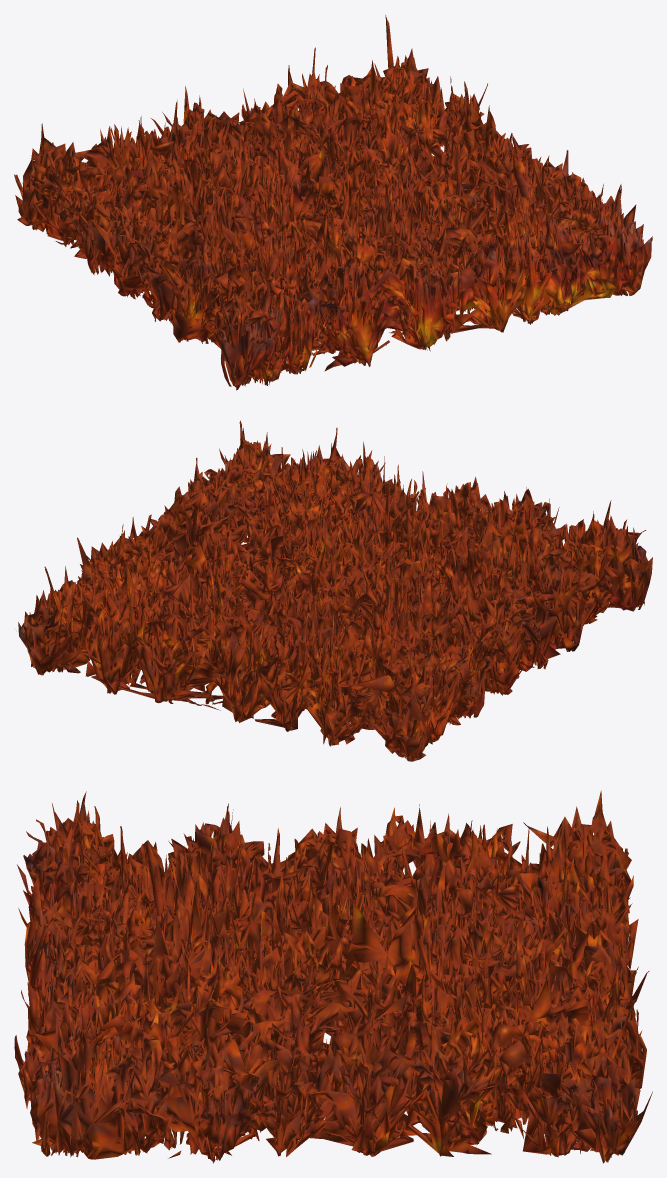
File: Meshy_AI_Verdant_Symmetry_1115233327_texture.glb
The picture shows the model from 3 angles, top to bottom: view 1: azimuth 30°, elevation 25°; view 2: azimuth 150°, elevation 25°; view 3: azimuth 270°, elevation 25°; orthographic projection. The views are drawn at different scales.
Size of the model in its own units: 1.93 by 0.5145 by 1.95.
Materials: 1 (1 with a texture image).
